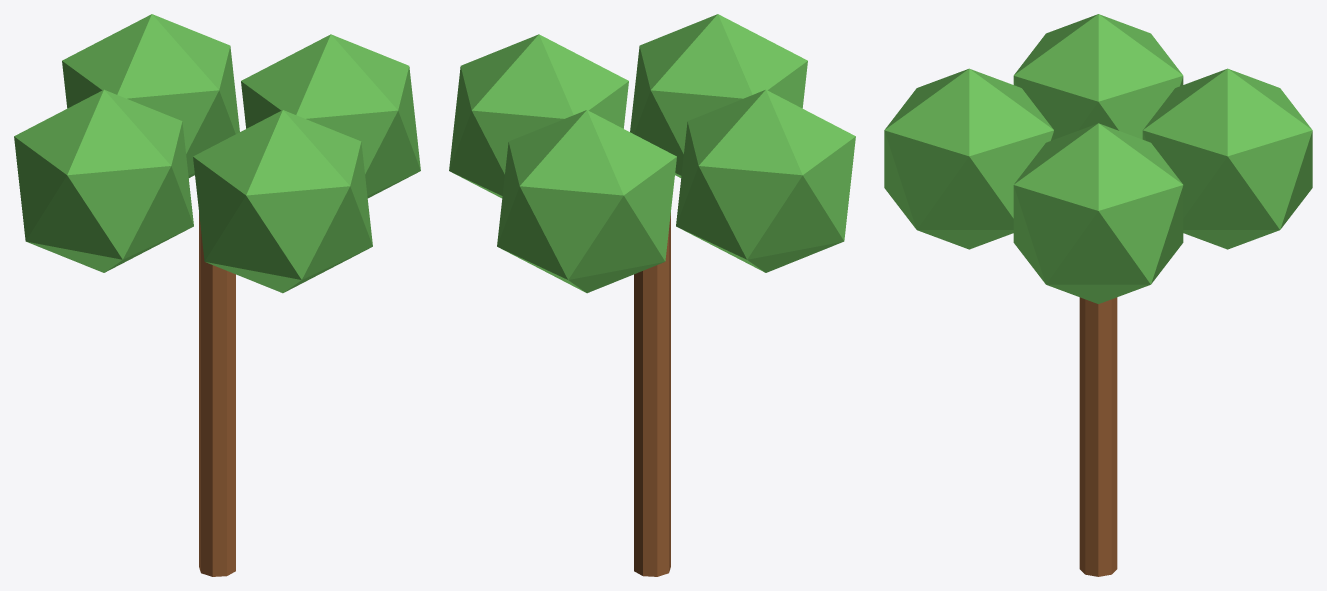
Rendered from prop_pohon_kelapa.fbx.
The picture shows the model from 3 angles, left to right: view 1: azimuth 30°, elevation 25°; view 2: azimuth 150°, elevation 25°; view 3: azimuth 270°, elevation 25°; orthographic projection.
Visible parts, largest first — view 1: prop_pohon_kelapa; view 2: prop_pohon_kelapa; view 3: prop_pohon_kelapa.
Part boxes in pixels (x1,y1,x2,y2): prop_pohon_kelapa: [14, 14, 420, 576]; prop_pohon_kelapa: [449, 14, 855, 576]; prop_pohon_kelapa: [884, 14, 1312, 576].
Size of the model in its own units: 372 by 470 by 365.
1 material, 1 textured.
